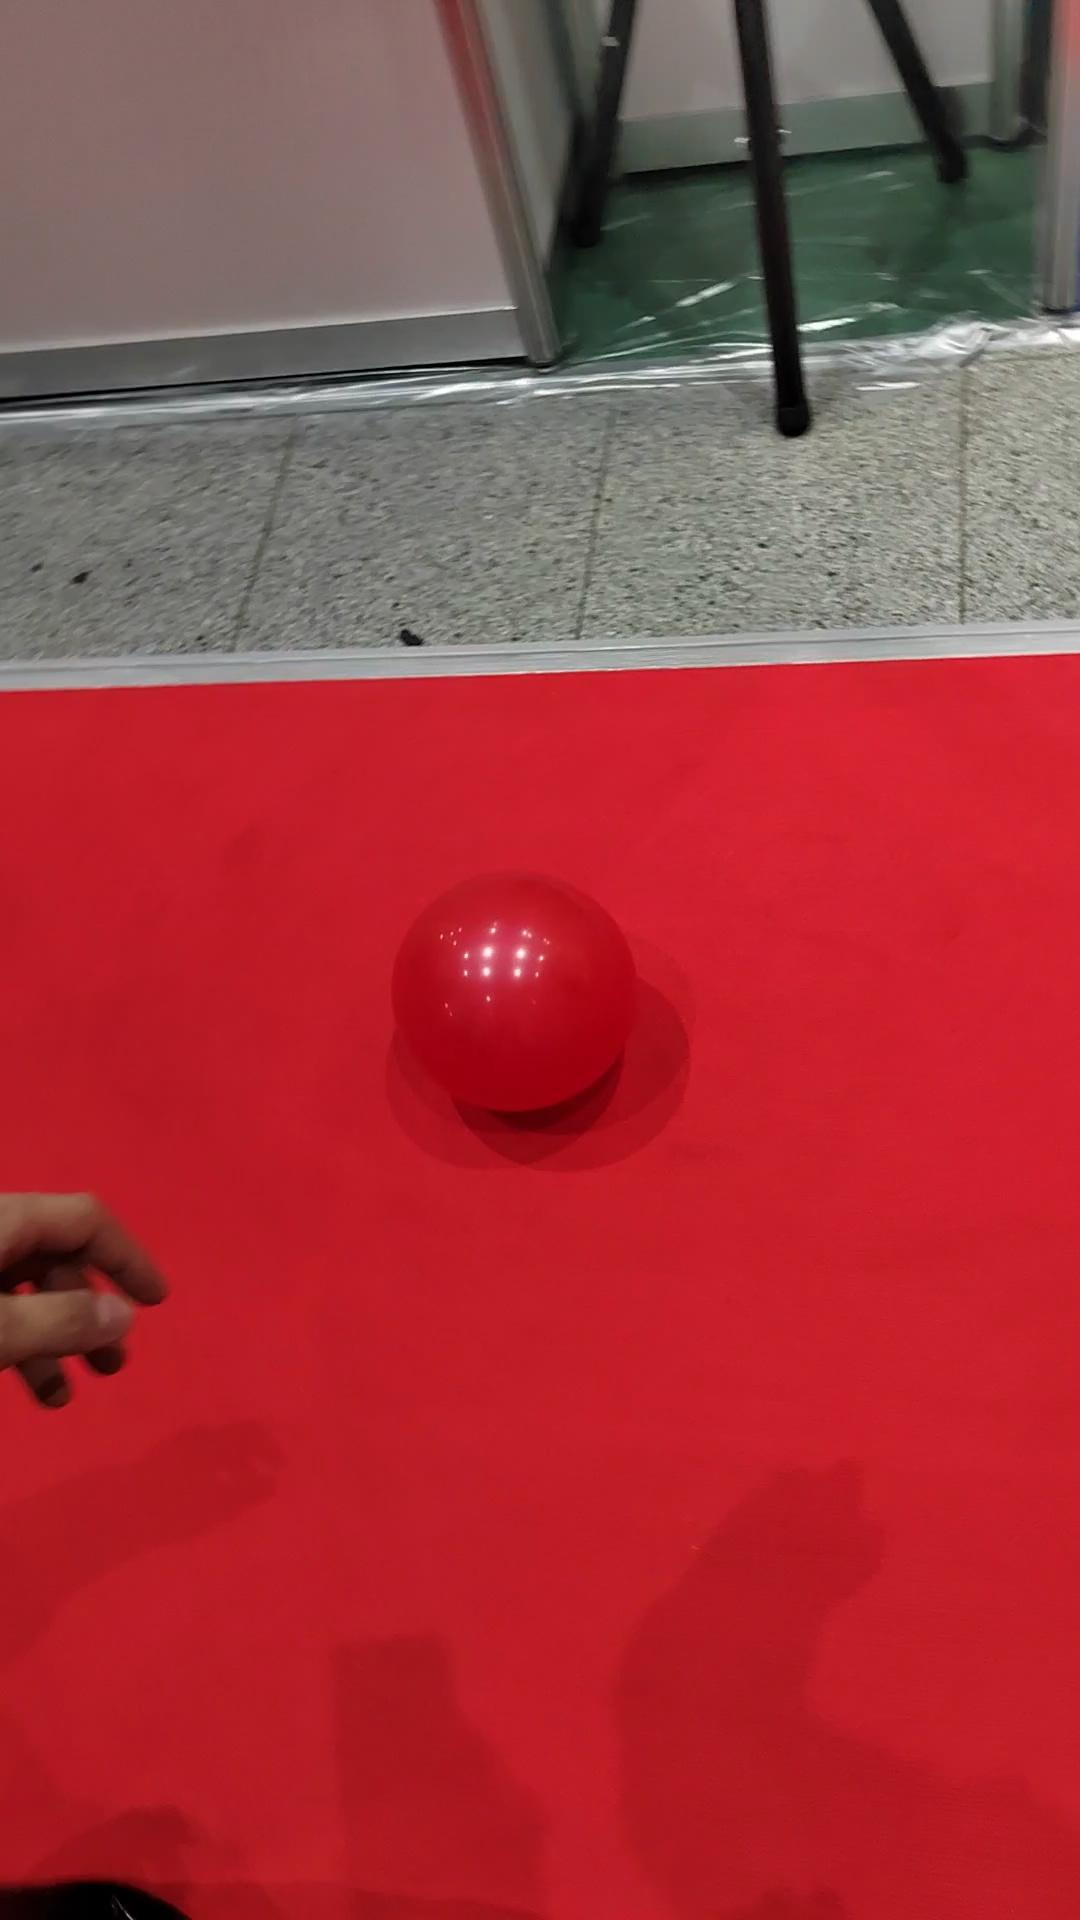red: (392, 873, 634, 1113)
